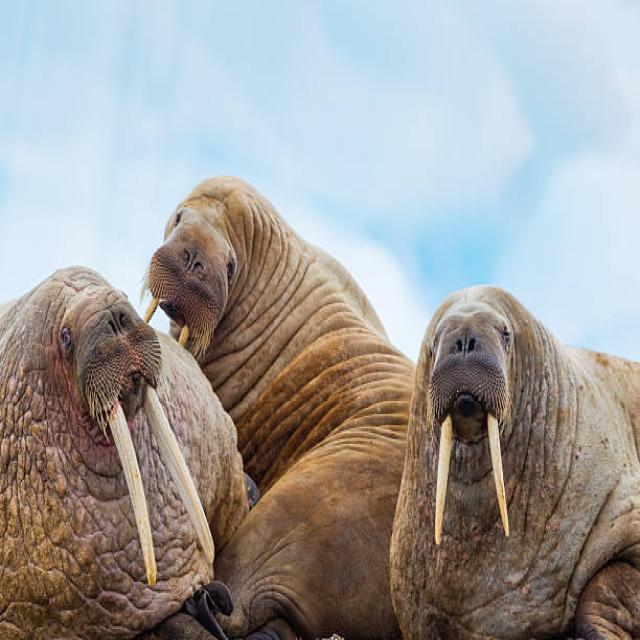walrus: (390, 245, 617, 614), (95, 120, 374, 408), (12, 237, 204, 609)
